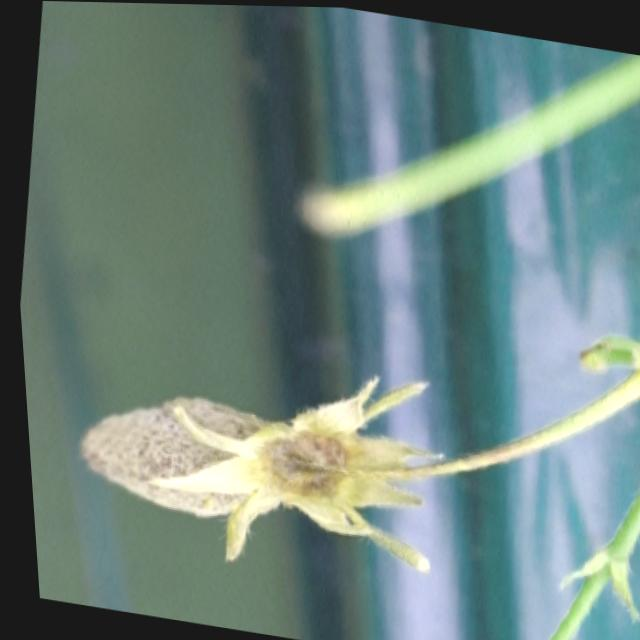Gray Mold: (71, 391, 423, 571)
